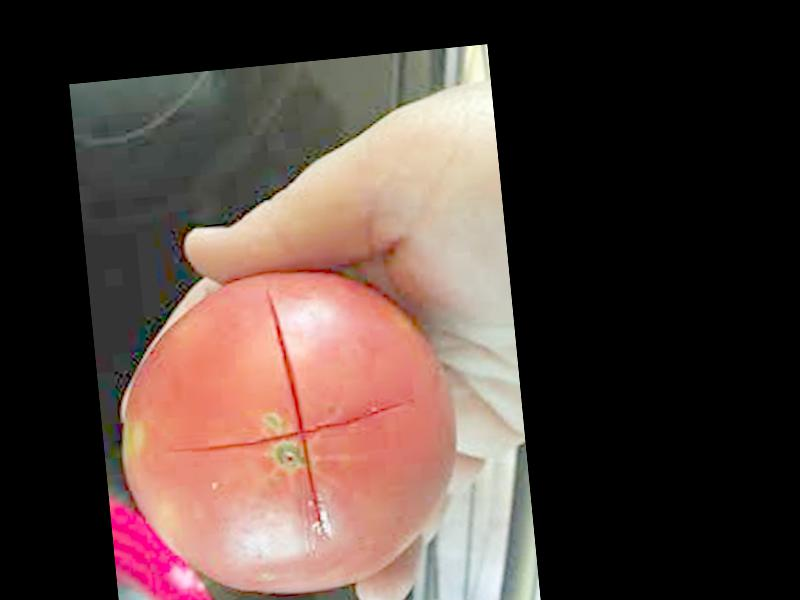Tomato: (108, 255, 471, 600)
